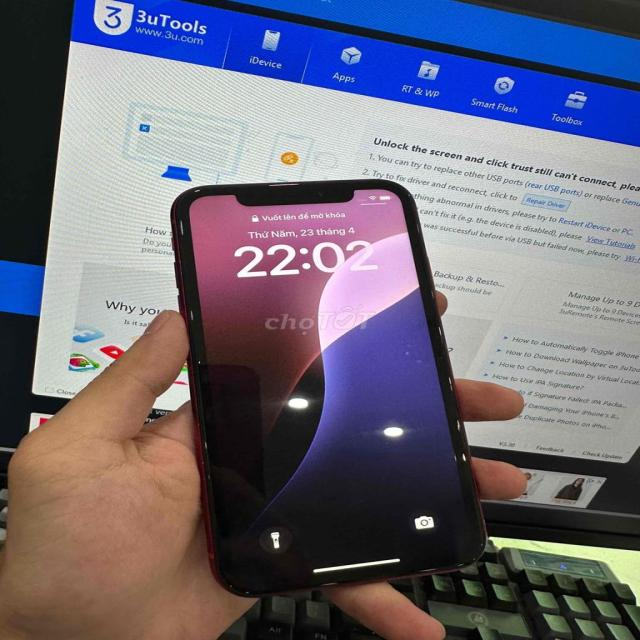gen_x_xs: (172, 179, 485, 597)
